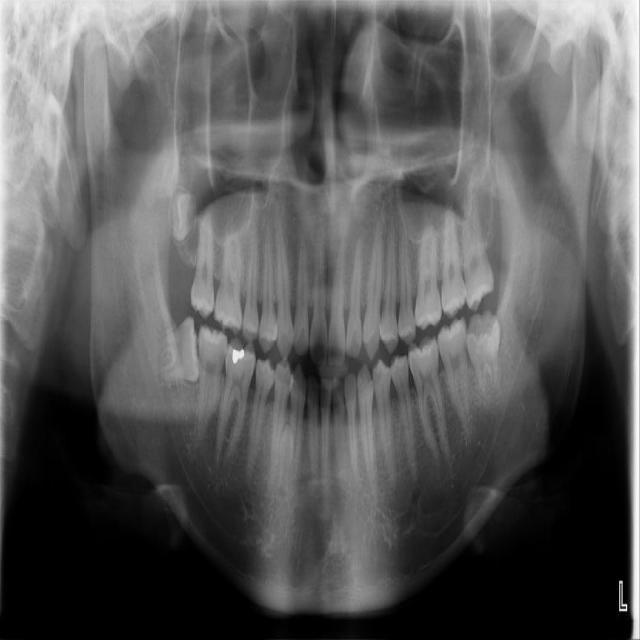3M ESPE Implant: (168, 187, 198, 244)
52: (224, 337, 257, 391)
73: (616, 582, 624, 592)
BioHorizons Implant: (440, 214, 467, 318)
BioLife Implant: (459, 186, 496, 314)
Biomet 3i Implant: (464, 308, 507, 396)
Blue Sky Bio Implant: (436, 315, 474, 439)
Caries: (188, 213, 215, 319)
Implant: (195, 323, 228, 437)
Keystone Dental Implant: (155, 315, 203, 386)
